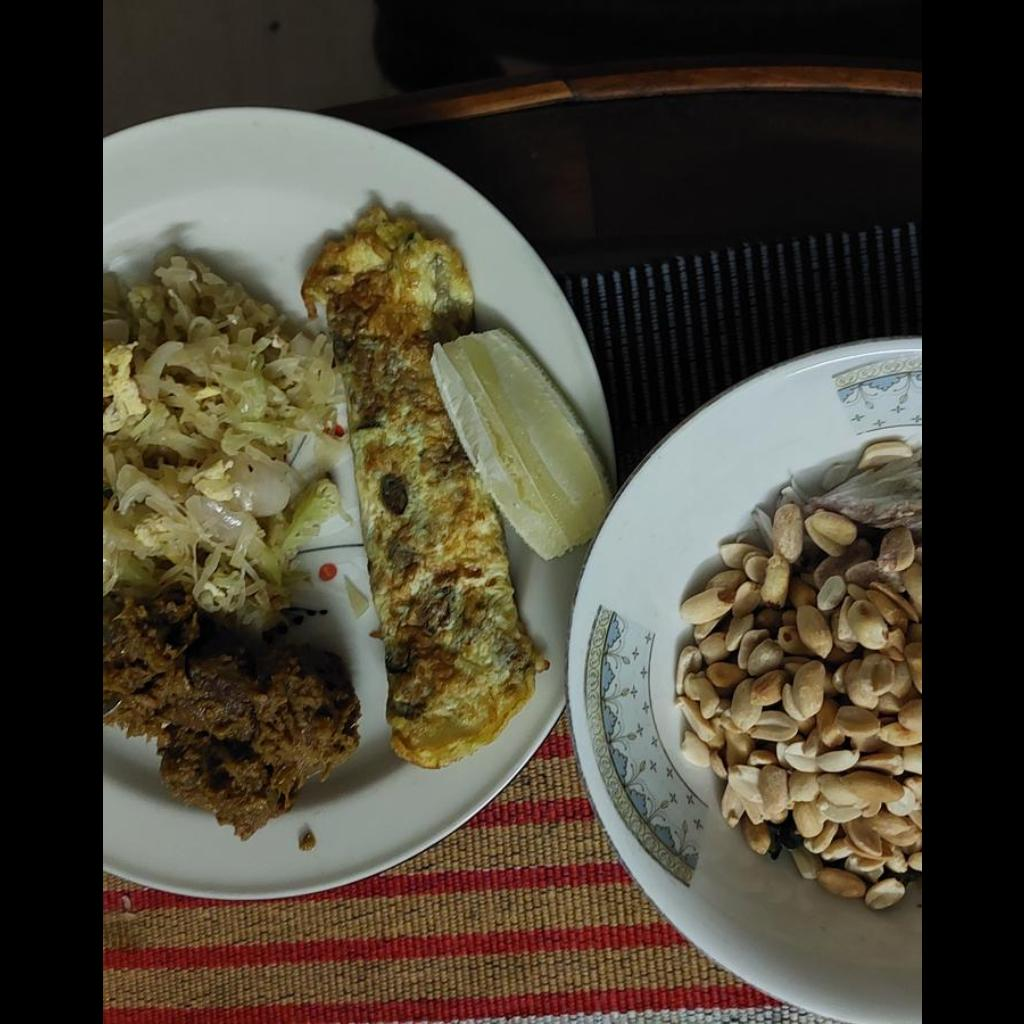badam: (674, 430, 918, 914)
beef: (102, 591, 358, 840)
egg-poached: (296, 206, 540, 766)
lemon: (427, 327, 614, 559)
noodles: (102, 256, 344, 625)
